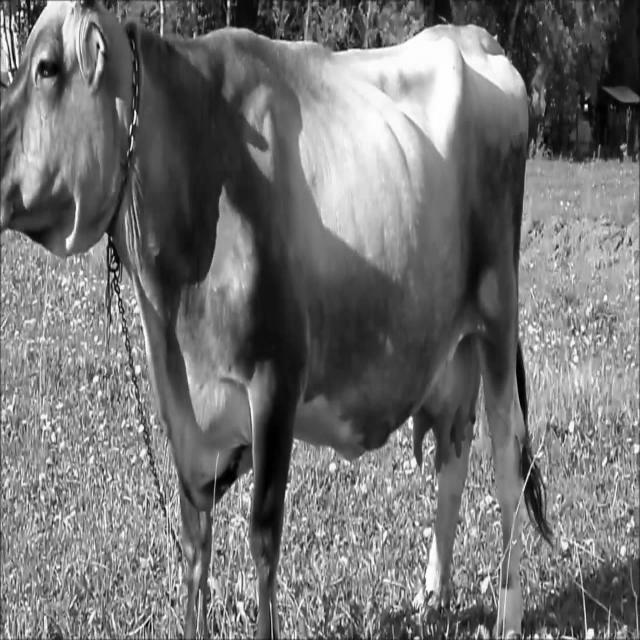cow: (0, 2, 548, 640)
